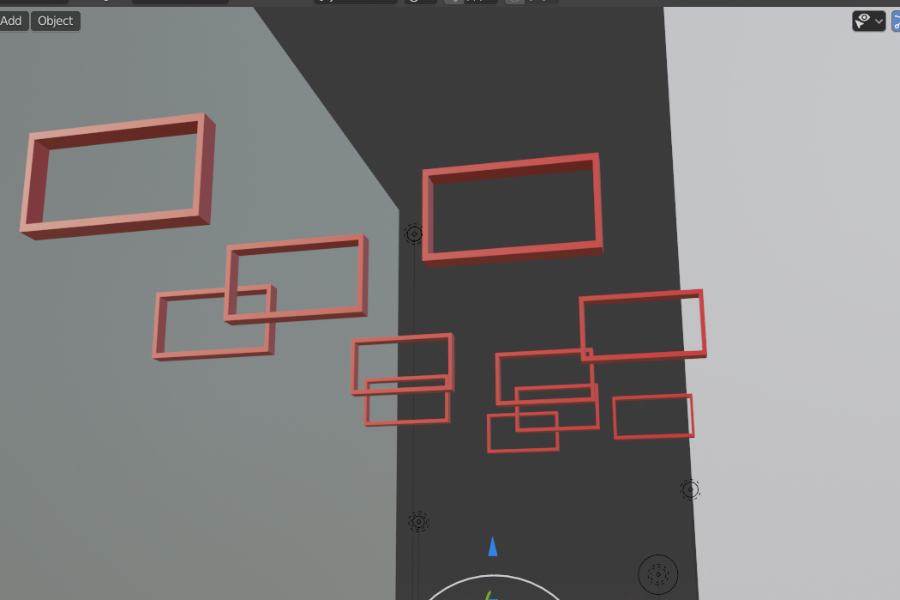GATE: (18, 112, 217, 240), (421, 146, 600, 272), (225, 233, 365, 321), (576, 284, 709, 365), (145, 287, 271, 363), (347, 336, 454, 402), (488, 346, 599, 408), (512, 379, 607, 440), (361, 376, 454, 431), (611, 388, 695, 446)
